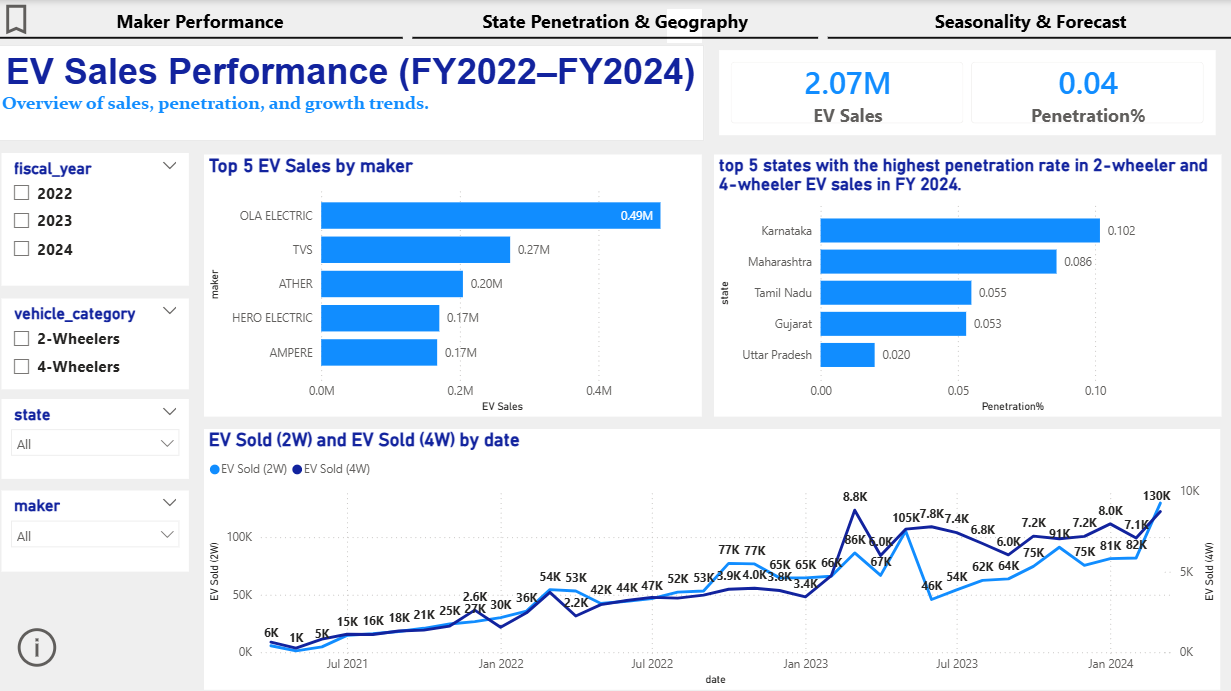

Layout of this report page (visuals, bound fields, positions):
{"tool":"powerbi","page":{"name":"Executive Summary","canvas":[1280,720],"ordinal":1},"visuals":[{"type":"textbox","box":[0,46.8,731.8,98.5],"z":0},{"type":"cardVisual","fields":{"Data":["electric_vehicle_sales_by_makers.EV Sales","electric_vehicle_sales_by_state.Penetration%"]},"box":[741.5,46.8,525,98.5],"z":1000},{"type":"barChart","title":"Top 5 EV Sales by maker","fields":{"Category":["electric_vehicle_sales_by_makers.maker"],"Y":["electric_vehicle_sales_by_makers.EV Sales"]},"box":[214.9,159.9,515.3,271.4],"z":2000},{"type":"barChart","title":"top 5 states with the highest penetration rate in 2-wheeler  and 4-wheeler EV sales in FY 2024.","fields":{"Category":["electric_vehicle_sales_by_state.state"],"Y":["electric_vehicle_sales_by_state.Penetration%"]},"box":[741.5,159.9,525,271.4],"z":3000},{"type":"slicer","fields":{"Values":["dim_date.fiscal_year"]},"box":[4.8,158.3,193.9,137.3],"z":4000},{"type":"slicer","fields":{"Values":["electric_vehicle_sales_by_makers.maker"]},"box":[4.8,507.3,193.9,84],"z":5000},{"type":"slicer","fields":{"Values":["electric_vehicle_sales_by_makers.vehicle_category"]},"box":[4.8,308.6,193.9,93.7],"z":6000},{"type":"slicer","fields":{"Values":["electric_vehicle_sales_by_state.state"]},"box":[4.8,413.6,193.9,82.4],"z":7000},{"type":"lineChart","fields":{"Category":["dim_date.date"],"Y":["electric_vehicle_sales_by_makers.EV Sales (2W)"],"Y2":["electric_vehicle_sales_by_makers.EV Sales (4W)"]},"box":[214.9,444.3,1051.7,269.8],"z":8000},{"type":"actionButton","box":[0,0,100,40],"z":9000},{"type":"pageNavigator","box":[0,2.7,1280.1,37.8],"z":10000},{"type":"actionButton","box":[16.2,644.6,155.1,51.7],"z":11000}]}

Visuals, with their boxes in screenshot pixels (x1, y1, x2, y2), scaled from the page's 1280x720 canvas onto the 1231x691 screenshot:
textbox: box=[0, 45, 704, 139]
cardVisual - electric_vehicle_sales_by_makers.EV Sales x electric_vehicle_sales_by_state.Penetration%: box=[713, 45, 1218, 139]
"Top 5 EV Sales by maker" barChart: box=[207, 153, 702, 414]
"top 5 states with the highest penetration rate in 2-wheeler  and 4-wheeler EV sales in FY 2024." barChart: box=[713, 153, 1218, 414]
slicer - dim_date.fiscal_year: box=[5, 152, 191, 284]
slicer - electric_vehicle_sales_by_makers.maker: box=[5, 487, 191, 567]
slicer - electric_vehicle_sales_by_makers.vehicle_category: box=[5, 296, 191, 386]
slicer - electric_vehicle_sales_by_state.state: box=[5, 397, 191, 476]
lineChart - dim_date.date x electric_vehicle_sales_by_makers.EV Sales (2W): box=[207, 426, 1218, 685]
actionButton: box=[0, 0, 96, 38]
pageNavigator: box=[0, 3, 1230, 39]
actionButton: box=[16, 619, 165, 668]
